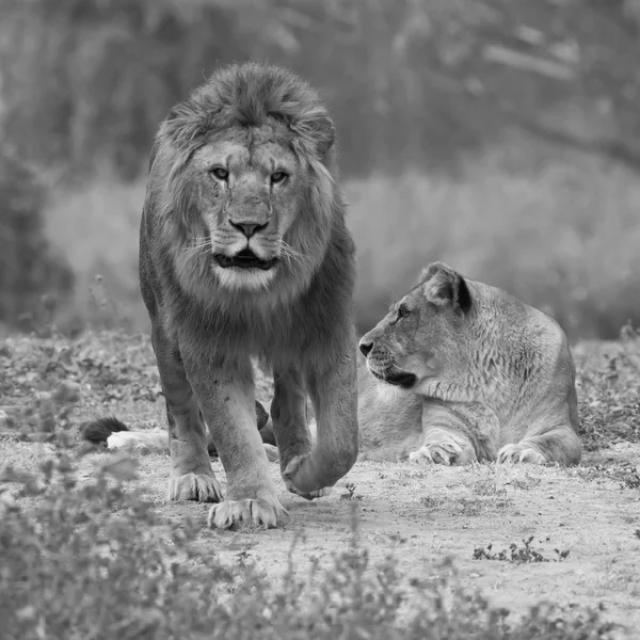Animal: (140, 63, 358, 529), (347, 265, 595, 476)
